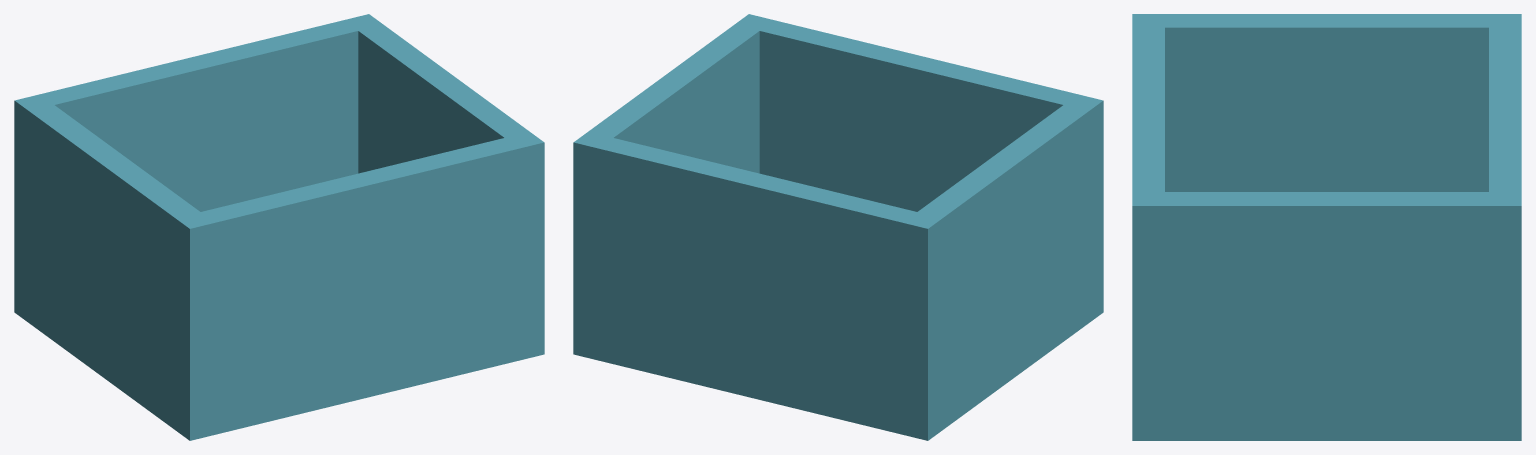
File: open-bulk-storage-bin.glb
The picture shows the model from 3 angles, left to right: view 1: azimuth 30°, elevation 25°; view 2: azimuth 150°, elevation 25°; view 3: azimuth 270°, elevation 25°; orthographic projection. The views are drawn at different scales.
Parts seen in each view (by area): view 1: blue; view 2: blue; view 3: blue.
Part boxes in pixels (x1,y1,x2,y2): blue: (14,14,544,440); blue: (573,14,1103,440); blue: (1132,14,1521,440).
Bounding box in the file's own units: 1.4 × 0.8001 × 1.2.
